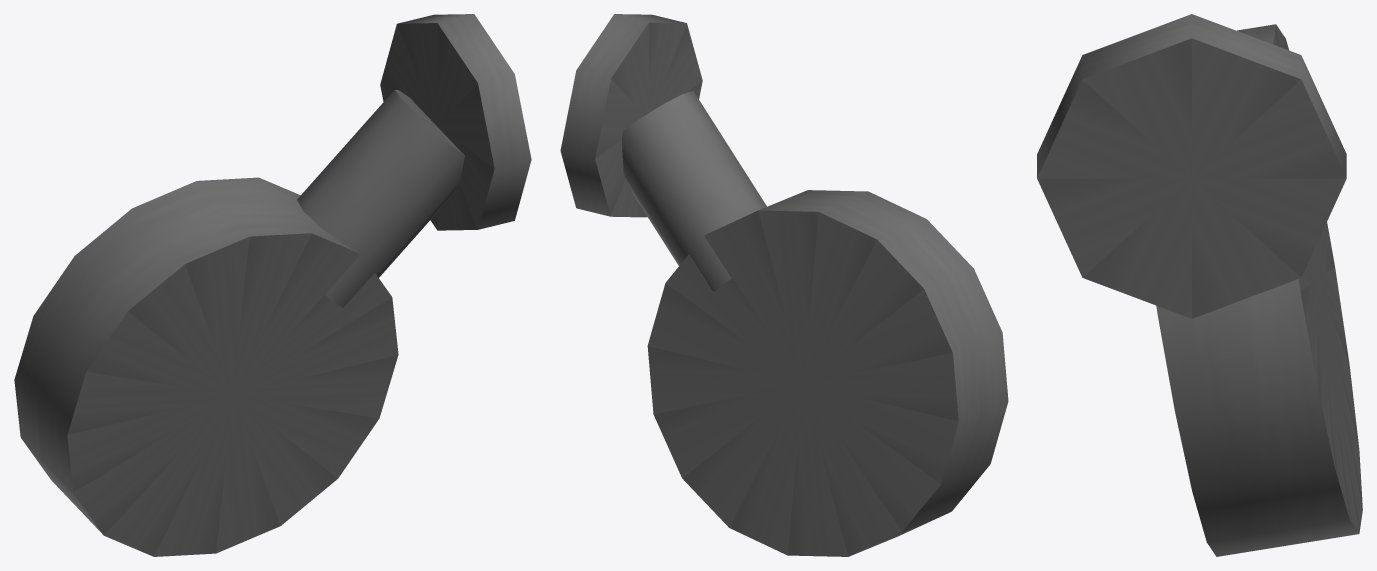
The model's file is mastarmcurve_10x2_c7_east.obj.
The picture shows the model from 3 angles, left to right: view 1: azimuth 30°, elevation 25°; view 2: azimuth 150°, elevation 25°; view 3: azimuth 270°, elevation 25°; orthographic projection. The views are drawn at different scales.
Visible parts, largest first — view 1: mastarm_10x2_c7_east; view 2: mastarm_10x2_c7_east; view 3: mastarm_10x2_c7_east.
Boxes of the visible parts, bbox=[...] form: mastarm_10x2_c7_east: bbox=[14, 14, 531, 556]; mastarm_10x2_c7_east: bbox=[560, 14, 1008, 556]; mastarm_10x2_c7_east: bbox=[1037, 14, 1362, 556].
Bounding box in the file's own units: 0.8333 × 0.9376 × 0.4209.
